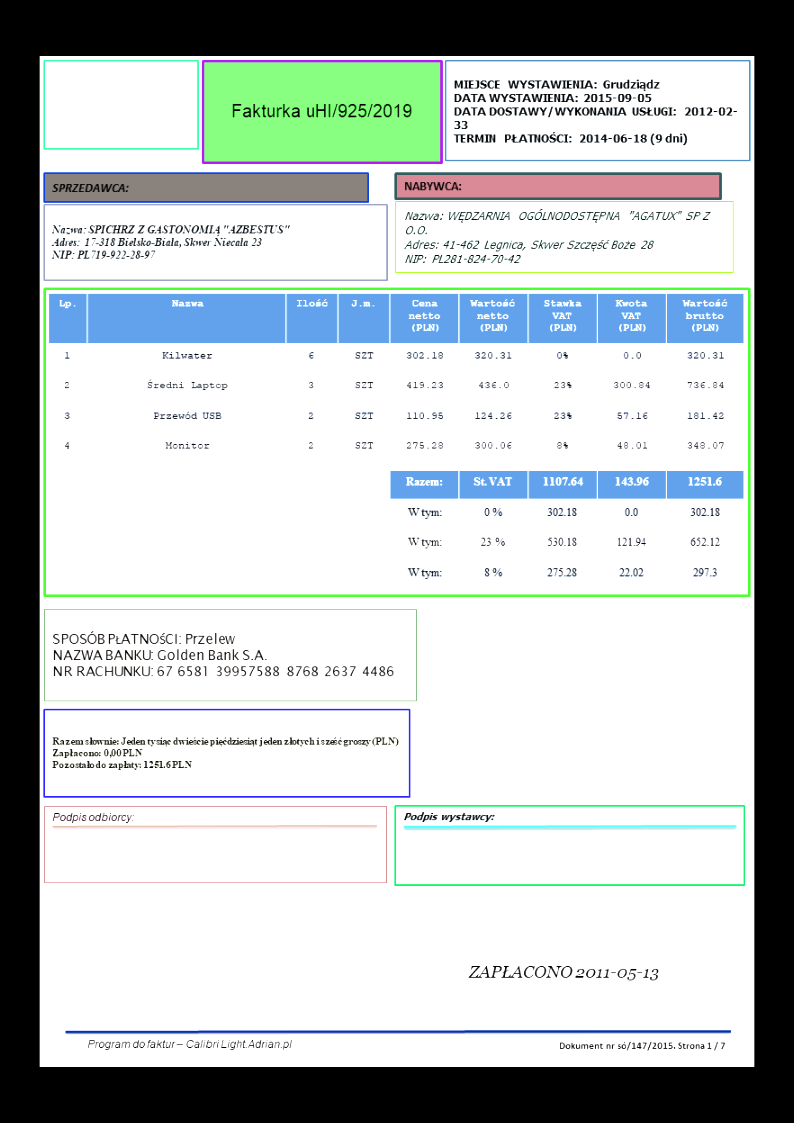Table: (47, 291, 744, 467), (389, 469, 745, 593)
TextBox: (451, 76, 741, 147), (402, 207, 714, 268), (50, 629, 396, 682), (50, 733, 401, 771), (50, 221, 293, 262), (466, 961, 660, 985), (229, 100, 415, 122), (86, 1034, 294, 1053), (557, 1038, 726, 1053), (402, 808, 496, 827), (50, 809, 135, 826), (49, 179, 132, 196), (402, 178, 463, 195)
